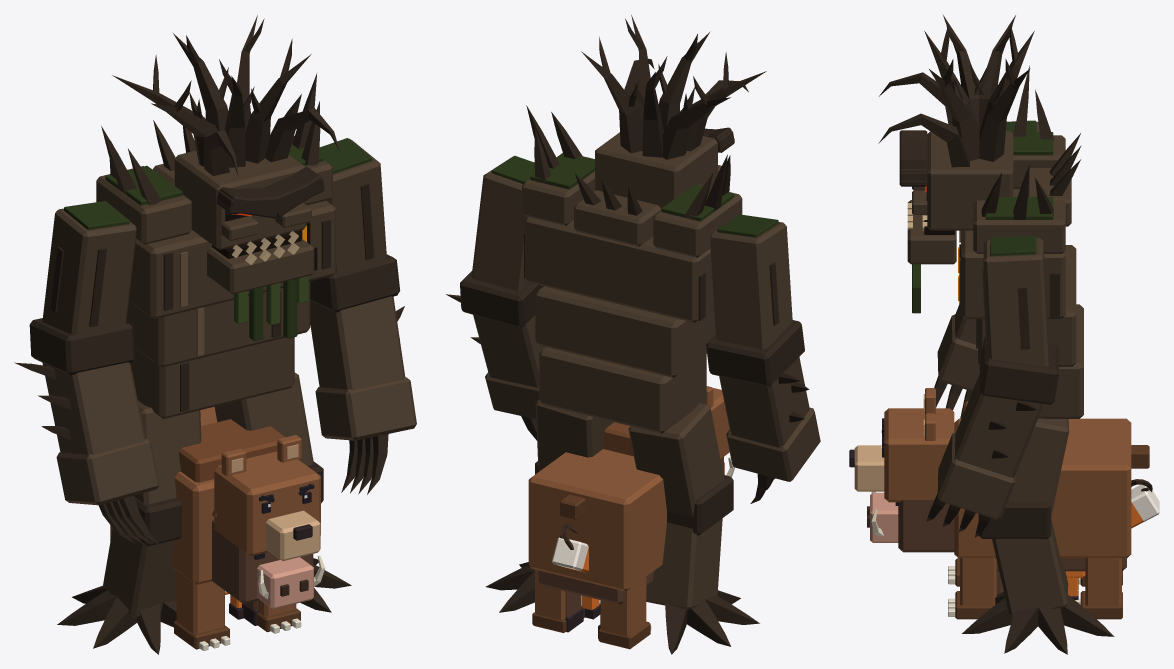
The model's file is w2_enemies.fbx.
3 views of the same model, side by side, from view 1: azimuth 30°, elevation 25°; view 2: azimuth 150°, elevation 25°; view 3: azimuth 270°, elevation 25° (orthographic). The views are drawn at different scales.
Visible parts, largest first — view 1: ElderTreant.Torso, ElderTreant.Crown, ElderTreant.RightArm, ElderTreant.LeftLowerArm, ElderTreant.RightLowerArm, Bear.Head, ElderTreant.Head, ElderTreant.HandL, ElderTreant.HandR, ElderTreant.RightLowerLeg, ElderTreant.LeftArm, ElderTreant.ElbowR (+33 smaller); view 2: ElderTreant.Torso, Bear.Torso, ElderTreant.Crown, ElderTreant.RightArm, ElderTreant.Shoulders, ElderTreant.RightLeg, ElderTreant.Head, ElderTreant.LeftArm, ElderTreant.RightLowerLeg, ElderTreant.RightLowerArm, ElderTreant.Thorns, ElderTreant.ElbowR (+19 smaller); view 3: Bear.Torso, ElderTreant.Crown, ElderTreant.Torso, ElderTreant.LeftArm, ElderTreant.Head, Bear.Head, ElderTreant.LeftLowerArm, ElderTreant.LeftLowerLeg, ElderTreant.Shoulders, ElderTreant.RootsL, ElderTreant.LeftLeg, ElderTreant.HandL (+24 smaller).
Boxes of the visible parts, x1,y1,x2,y2 form: ElderTreant.Torso: [126, 200, 336, 418]; ElderTreant.Crown: [112, 15, 339, 176]; ElderTreant.RightArm: [42, 208, 136, 335]; ElderTreant.LeftLowerArm: [310, 296, 405, 390]; ElderTreant.RightLowerArm: [42, 362, 145, 455]; Bear.Head: [214, 451, 320, 556]; ElderTreant.Head: [174, 150, 306, 249]; ElderTreant.HandL: [315, 377, 416, 440]; ElderTreant.HandR: [56, 438, 159, 505]; ElderTreant.RightLowerLeg: [103, 528, 176, 617]; ElderTreant.LeftArm: [326, 138, 386, 272]; ElderTreant.ElbowR: [29, 318, 134, 375]; ElderTreant.Torso: [525, 216, 715, 433]; Bear.Torso: [528, 449, 666, 591]; ElderTreant.Crown: [581, 15, 766, 159]; ElderTreant.RightArm: [710, 222, 792, 349]; ElderTreant.Shoulders: [522, 156, 742, 257]; ElderTreant.RightLeg: [628, 403, 724, 517]; ElderTreant.Head: [595, 132, 717, 210]; ElderTreant.LeftArm: [471, 157, 529, 291]; ElderTreant.RightLowerLeg: [646, 518, 722, 609]; ElderTreant.RightLowerArm: [719, 357, 809, 447]; ElderTreant.Thorns: [526, 105, 730, 220]; ElderTreant.ElbowR: [706, 320, 804, 386]; Bear.Torso: [954, 418, 1131, 558]; ElderTreant.Crown: [878, 15, 1034, 167]; ElderTreant.Torso: [961, 189, 1083, 418]; ElderTreant.LeftArm: [983, 237, 1048, 366]; ElderTreant.Head: [927, 131, 1013, 230]; Bear.Head: [884, 408, 954, 502]; ElderTreant.LeftLowerArm: [954, 373, 1043, 477]; ElderTreant.LeftLowerLeg: [992, 518, 1068, 616]; ElderTreant.Shoulders: [973, 135, 1071, 253]; ElderTreant.RootsL: [962, 591, 1114, 654]; ElderTreant.LeftLeg: [1007, 418, 1069, 517]; ElderTreant.HandL: [937, 432, 1015, 519].
Bounding box in the file's own units: 13.55 × 20 × 10.11.
